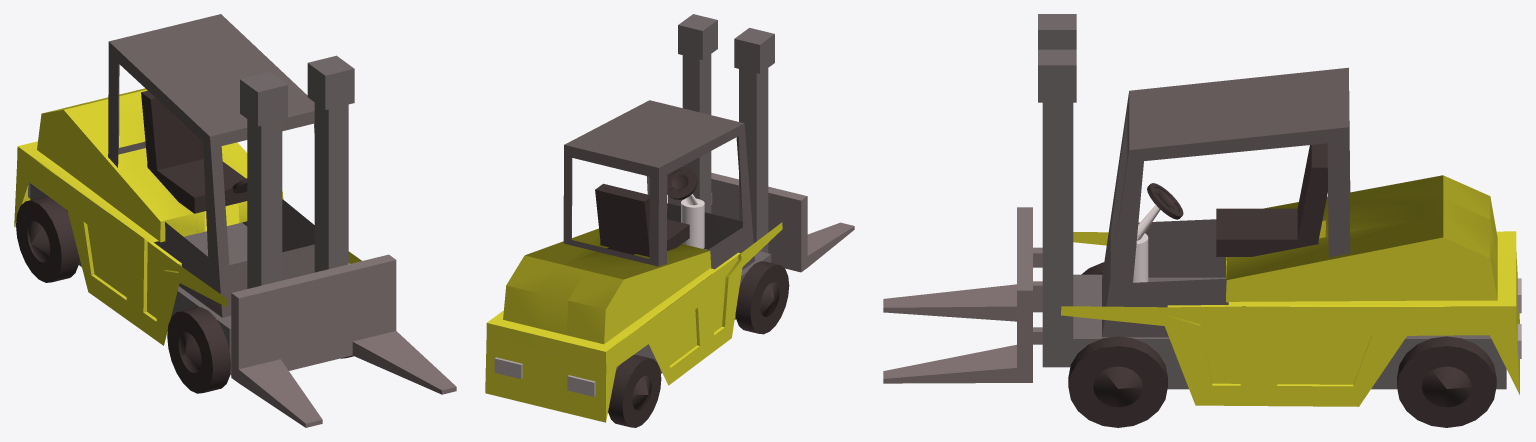
File: fork_lift.glb
The picture shows the model from 3 angles, left to right: view 1: azimuth 30°, elevation 25°; view 2: azimuth 150°, elevation 25°; view 3: azimuth 270°, elevation 25°; orthographic projection. The views are drawn at different scales.
Visible parts, largest first — view 1: Object_2, Object_4, Object_5, Object_3, Object_7; view 2: Object_2, Object_4, Object_7, Object_3, Object_5, Object_6, Object_8; view 3: Object_2, Object_4, Object_7, Object_3, Object_5, Object_6.
Boxes of the visible parts, x1,y1,x2,y2 form: Object_2: (14,88,361,345); Object_4: (108,14,314,317); Object_5: (231,254,456,427); Object_3: (30,55,354,375); Object_7: (16,90,353,393); Object_2: (485,222,782,422); Object_4: (563,100,754,321); Object_7: (595,166,789,427); Object_3: (539,14,774,412); Object_5: (668,172,854,272); Object_6: (681,194,704,248); Object_8: (494,357,595,396); Object_2: (1061,175,1519,406); Object_4: (1102,67,1350,337); Object_7: (1068,143,1496,427); Object_3: (1038,14,1506,389); Object_5: (883,207,1042,383); Object_6: (1133,205,1160,282).
Bounding box in the file's own units: 0.4795 × 0.8407 × 1.41.
